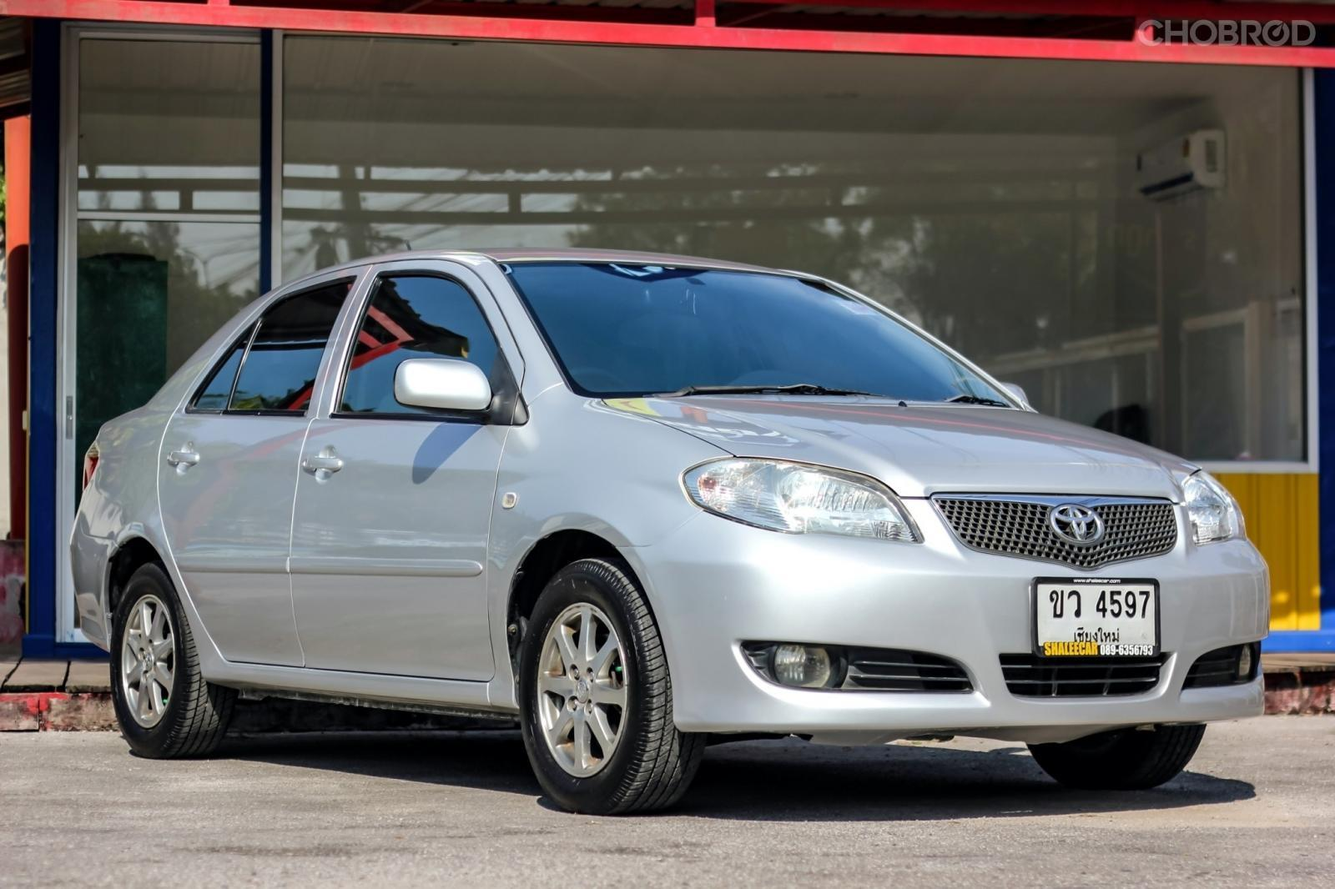license-plate: (1027, 571, 1168, 670)
